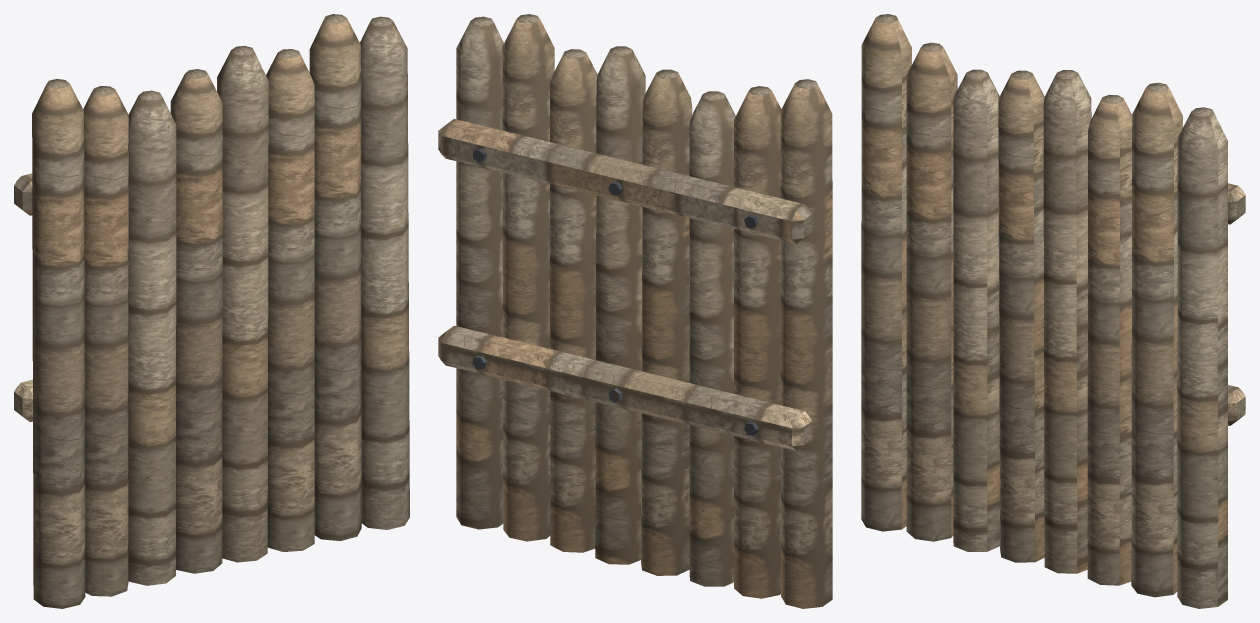
File: sur_duvari.glb
The picture shows the model from 3 angles, left to right: view 1: azimuth 30°, elevation 25°; view 2: azimuth 150°, elevation 25°; view 3: azimuth 330°, elevation 25°; orthographic projection. The views are drawn at different scales.
Parts seen in each view (by area): view 1: sur_duvari; view 2: sur_duvari; view 3: sur_duvari.
Boxes of the visible parts, x1,y1,x2,y2 form: sur_duvari: [14, 14, 409, 608]; sur_duvari: [438, 14, 832, 608]; sur_duvari: [861, 14, 1245, 608].
Size of the model in its own units: 2.98 by 3.98 by 0.6102.
1 material, 1 textured.
